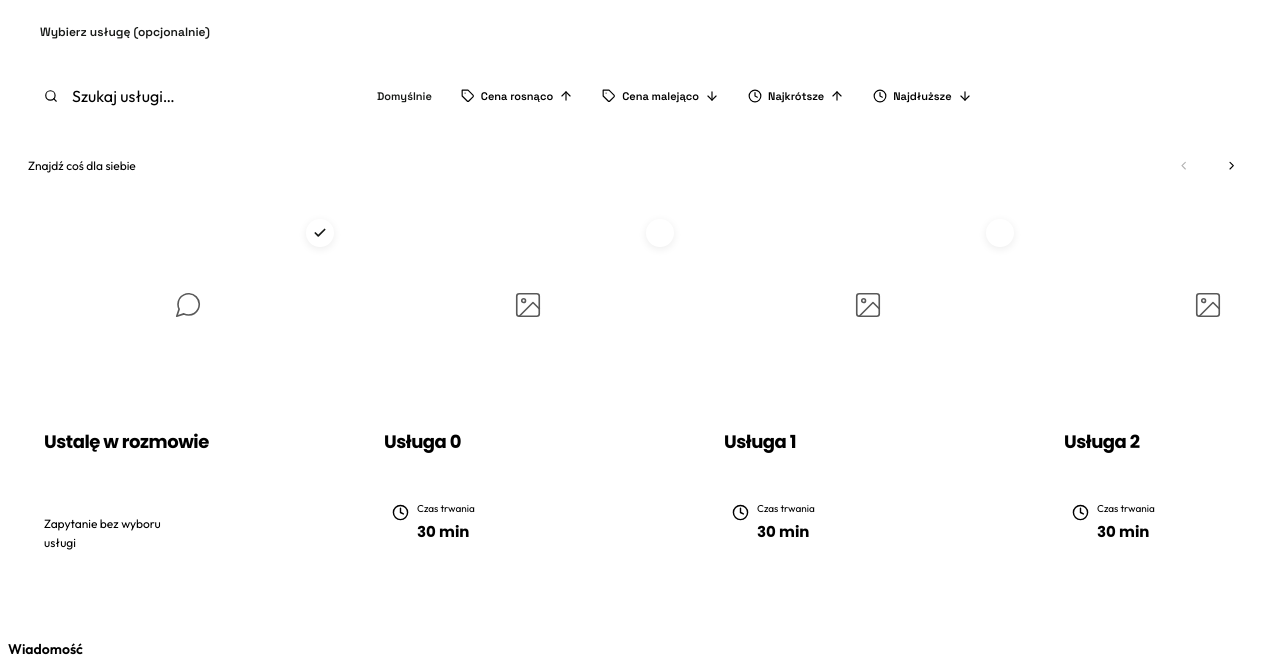
Test: service search narrows a long list while keeping the chosen service visible
The image size is (1280, 669).
Click the radio button labelled "Usługa 1": (760, 441) [708, 205, 1028, 572]
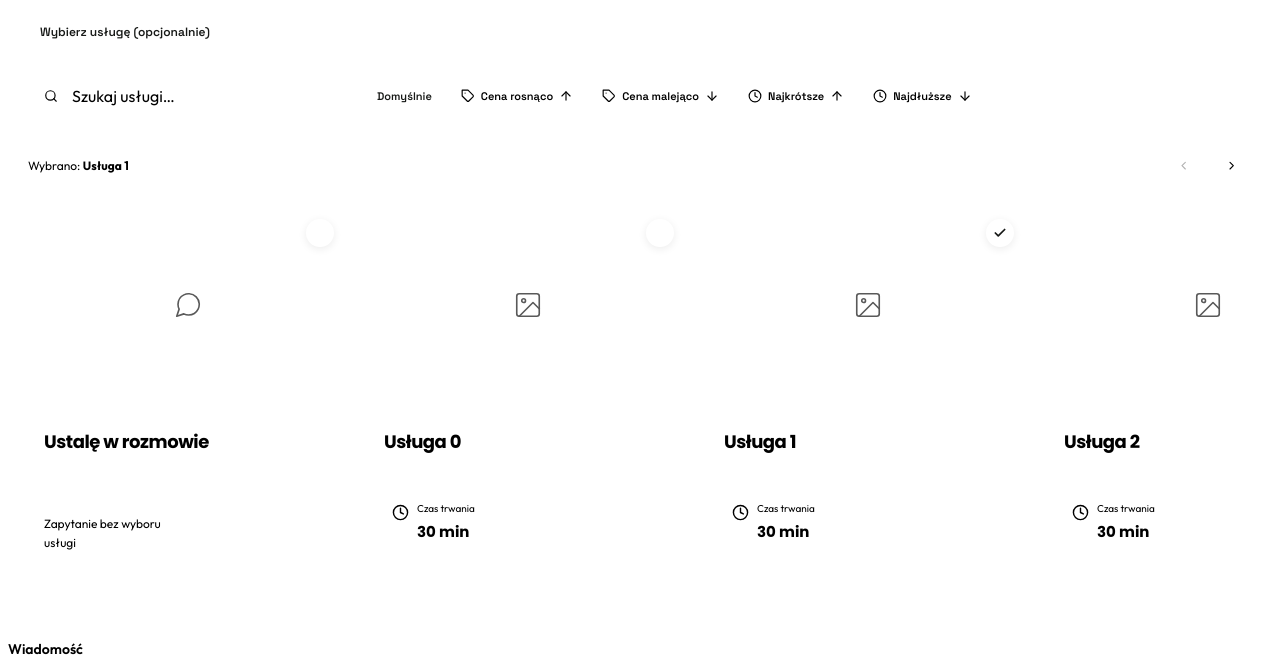
In the search field labelled "Szukaj usługi": (202, 96) [70, 73, 334, 119], type "USŁUGA 7"
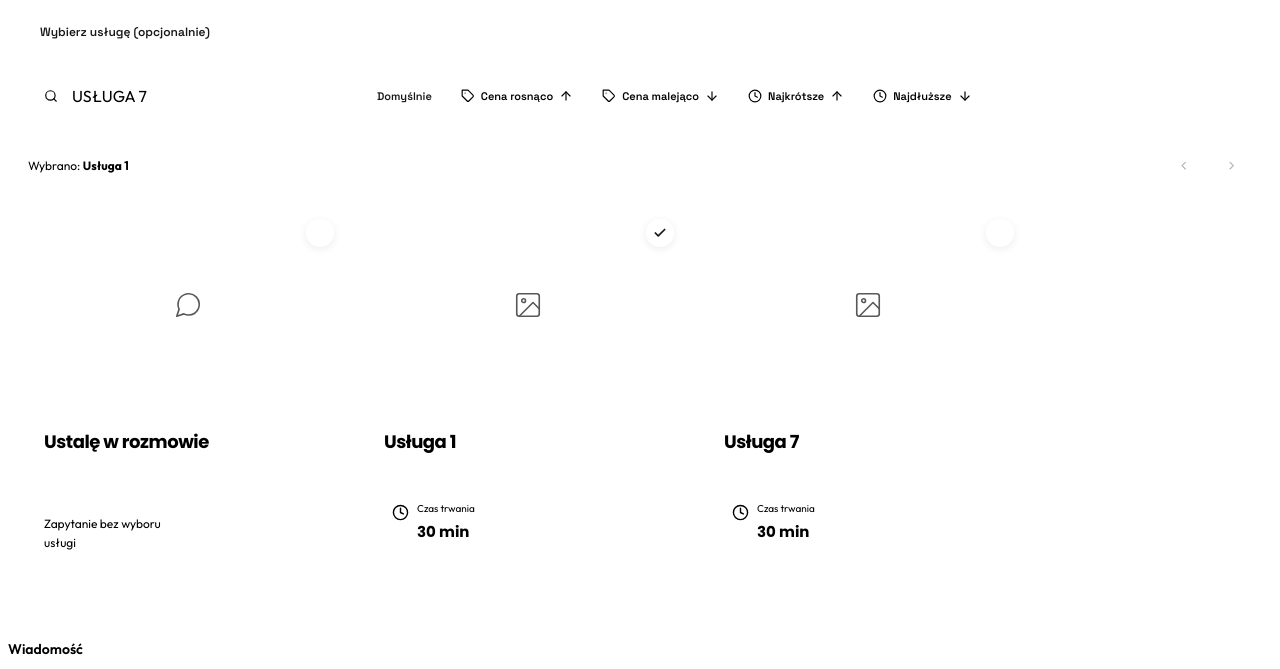
Expected: the radio button labelled "Usługa 7" is shown, [708, 205, 1028, 572]
Expected: the radio button labelled "Usługa 1" is checked, [368, 205, 688, 572]
Expected: the text "Usługa 2" is gone
Clear the search field: (202, 96) [70, 73, 334, 119]
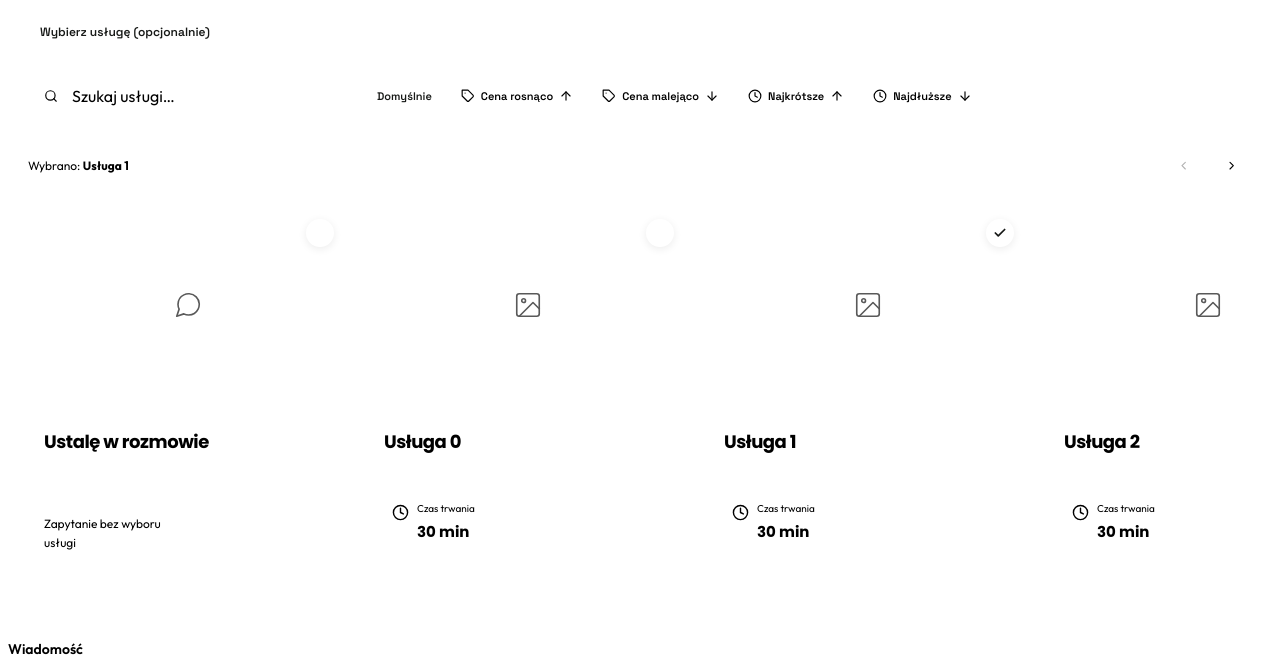
Expected: the radio button labelled "Usługa 2" is shown, [1048, 205, 1256, 572]
